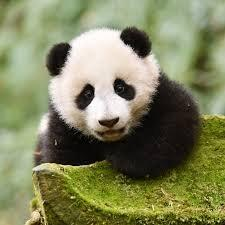bear: (36, 26, 199, 181)
